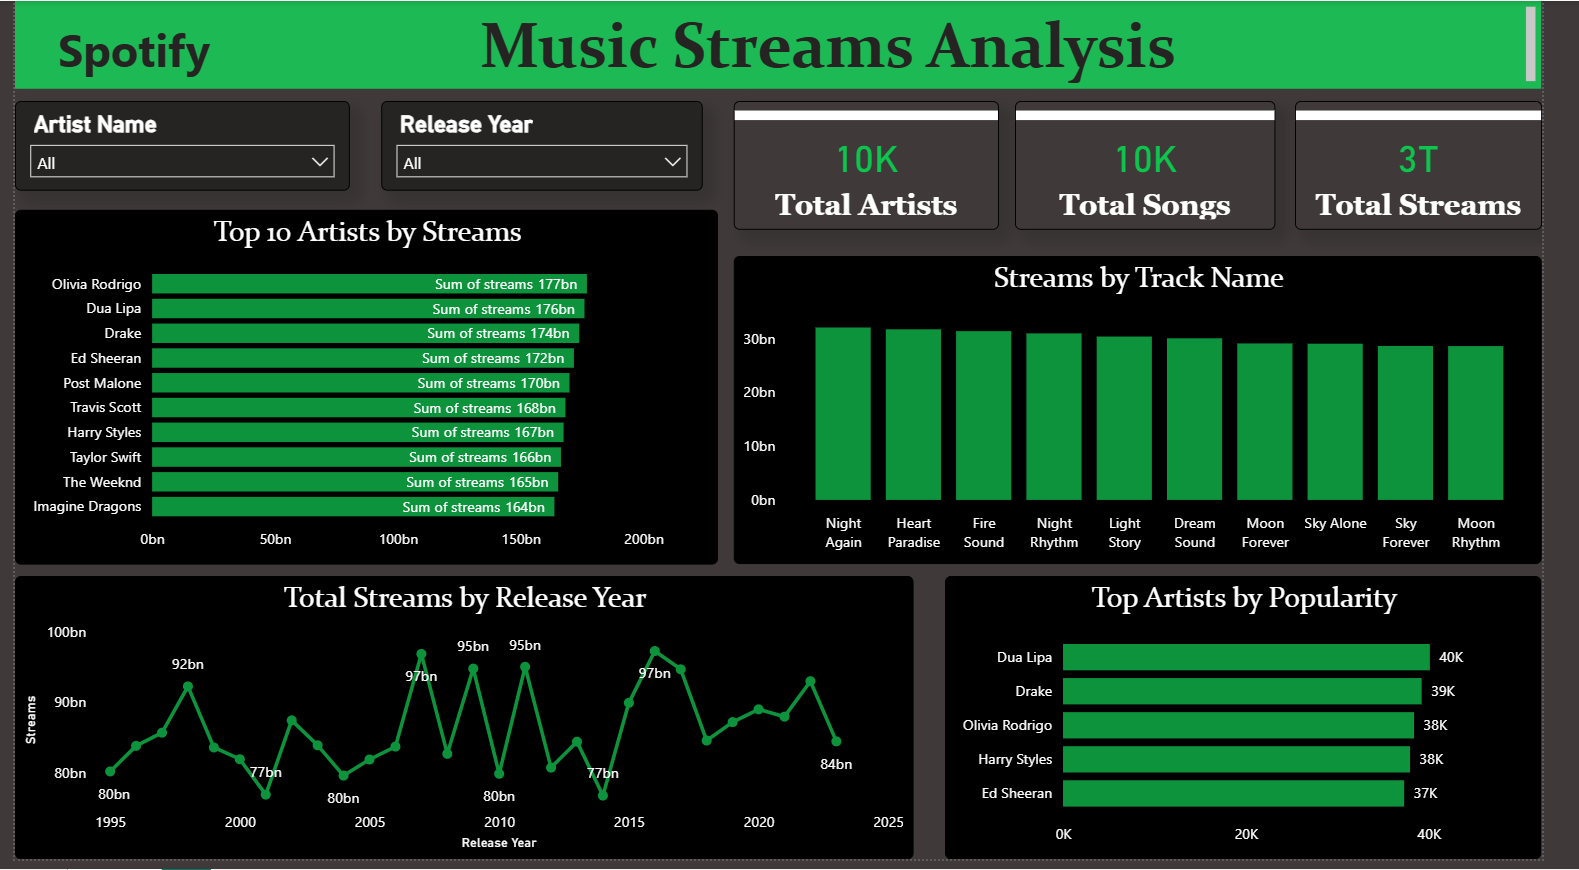

This screenshot's page, from the dashboard's own definition file:
{"tool":"powerbi","page":{"name":"Page 1","canvas":[1280,720],"ordinal":0},"visuals":[{"type":"textbox","box":[0,0,1280.2,73.6],"z":0},{"type":"slicer","fields":{"Values":["spotify_records.artist_name"]},"box":[0,83.9,280.9,75.5],"z":1},{"type":"slicer","fields":{"Values":["spotify_records.release_year"]},"box":[307.5,83.9,269.8,75.5],"z":2},{"type":"card","fields":{"Values":["spotify_records.Total Artists"]},"box":[602.4,83.9,222.2,107.6],"z":3},{"type":"card","fields":{"Values":["spotify_records.Total Songs"]},"box":[838.6,83.9,218,107.6],"z":4},{"type":"card","fields":{"Values":["spotify_records.Total Streams"]},"box":[1073.4,83.9,206.9,107.6],"z":5},{"type":"barChart","title":"Top 10 Artists by Streams","fields":{"Category":["spotify_records.artist_name"],"Y":["Sum(spotify_records.streams)"]},"box":[0,174.7,589.8,297.7],"z":6},{"type":"lineChart","title":"Total Streams by Release Year","fields":{"Category":["spotify_records.release_year"],"Y":["Sum(spotify_records.streams)"]},"box":[0,482.2,753.4,237.6],"z":7},{"type":"columnChart","title":"Streams by Track Name","fields":{"Category":["spotify_records.track_name"],"Y":["Sum(spotify_records.streams)"]},"box":[602.4,213.8,677.9,258.6],"z":8},{"type":"clusteredBarChart","title":"Top Artists by Popularity","fields":{"Category":["spotify_records.artist_name"],"Y":["Sum(spotify_records.popularity)"]},"box":[779.9,482.2,500.4,237.6],"z":9}]}

Visuals, with their boxes in screenshot pixels (x1, y1, x2, y2), scaled from the page's 1280x720 canvas onto the 1579x870 screenshot:
textbox: <region>0, 0, 1578, 89</region>
slicer - spotify_records.artist_name: <region>0, 101, 347, 193</region>
slicer - spotify_records.release_year: <region>379, 101, 712, 193</region>
card - spotify_records.Total Artists: <region>743, 101, 1017, 231</region>
card - spotify_records.Total Songs: <region>1034, 101, 1303, 231</region>
card - spotify_records.Total Streams: <region>1324, 101, 1578, 231</region>
"Top 10 Artists by Streams" barChart: <region>0, 211, 728, 571</region>
"Total Streams by Release Year" lineChart: <region>0, 583, 929, 869</region>
"Streams by Track Name" columnChart: <region>743, 258, 1578, 571</region>
"Top Artists by Popularity" clusteredBarChart: <region>962, 583, 1578, 869</region>
